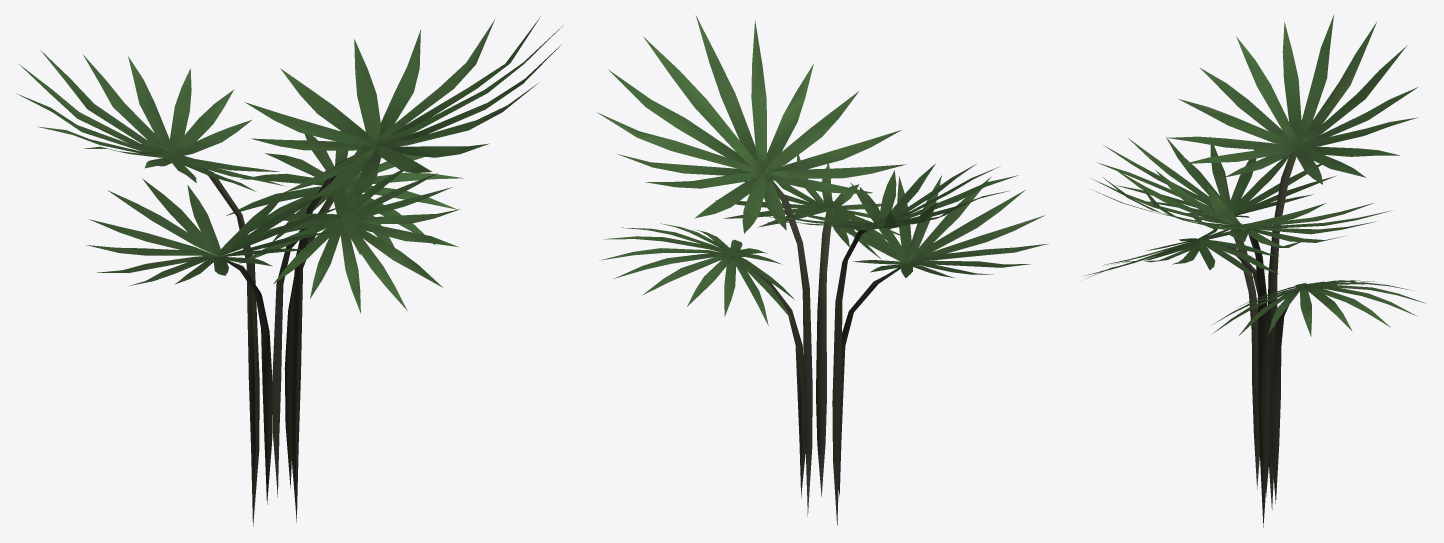
File: plants-trees-palms-fan-palm_v4.glb
3 renders of one model, left to right at view 1: azimuth 30°, elevation 25°; view 2: azimuth 150°, elevation 25°; view 3: azimuth 270°, elevation 25°, orthographic. The views are drawn at different scales.
Visible parts, largest first — view 1: Fan Palm_v4; view 2: Fan Palm_v4; view 3: Fan Palm_v4.
Part boxes in pixels (x1=…): Fan Palm_v4: x1=16, y1=16, x2=563, y2=526; Fan Palm_v4: x1=597, y1=15, x2=1048, y2=525; Fan Palm_v4: x1=1082, y1=15, x2=1425, y2=527.
Bounding box in the file's own units: 1.5 × 1.42 × 1.05.
